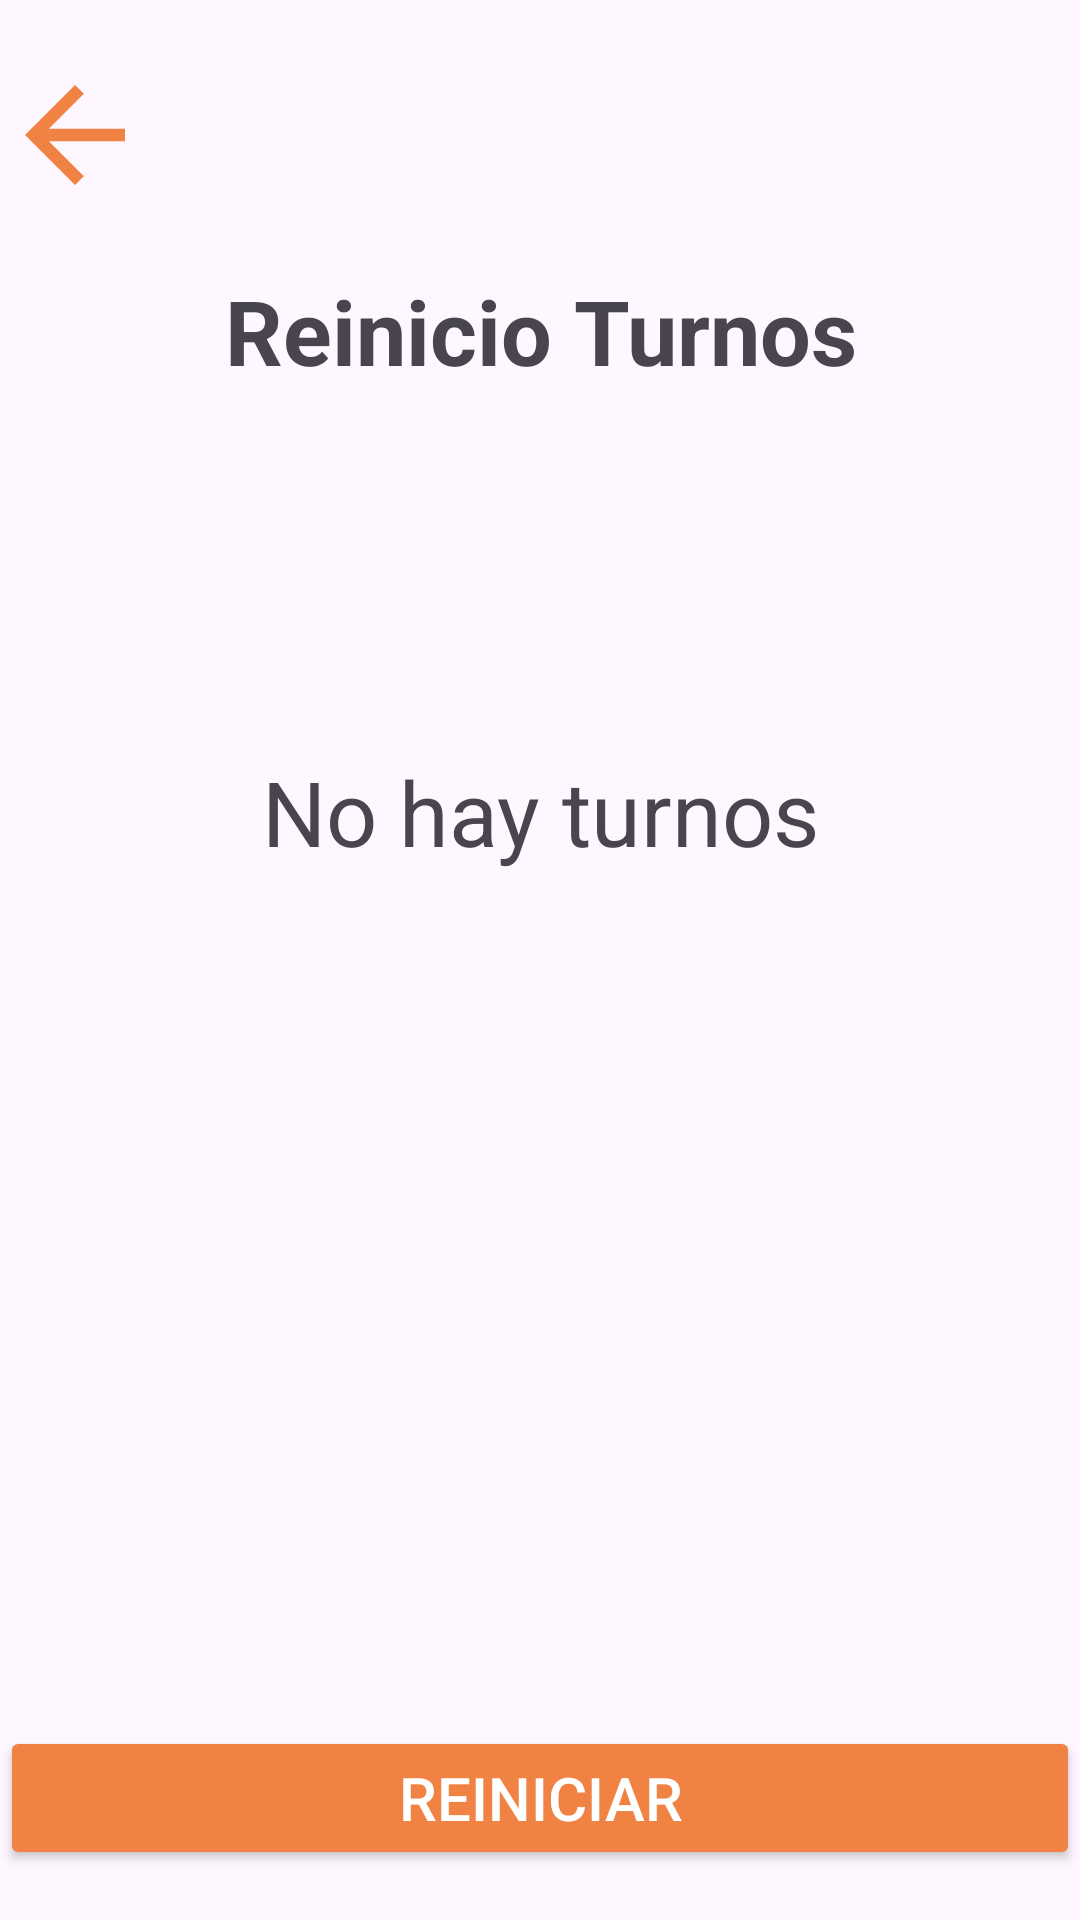

Icons on this 1080px×1920px Android screen, each with the point to tap as (x,y):
back: (75,135)
